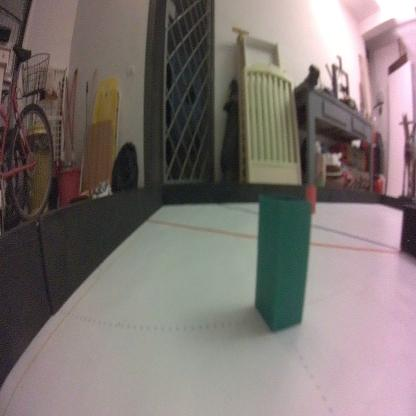green: (252, 190, 314, 332)
red: (304, 182, 317, 213)
